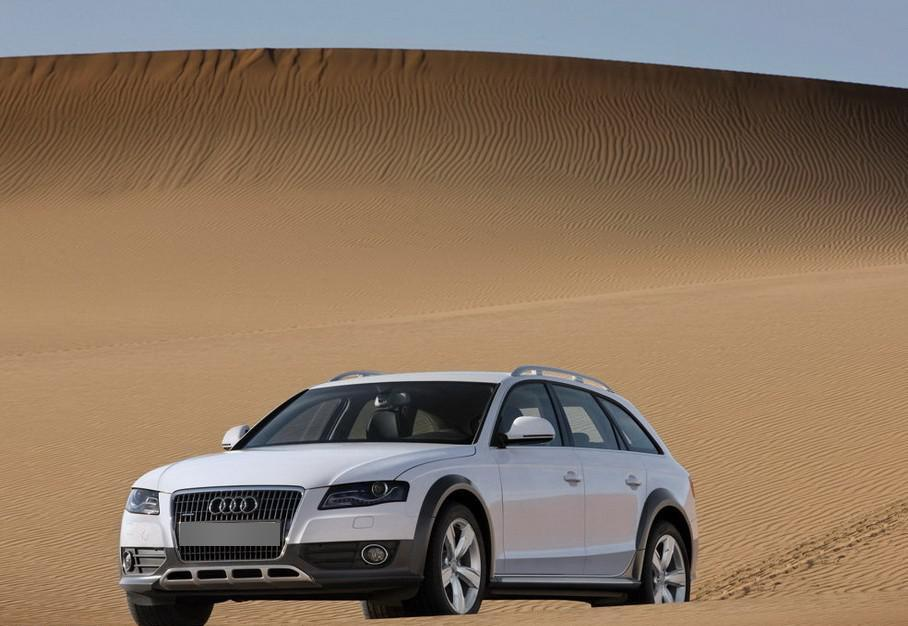Wagon: (115, 363, 702, 626)
